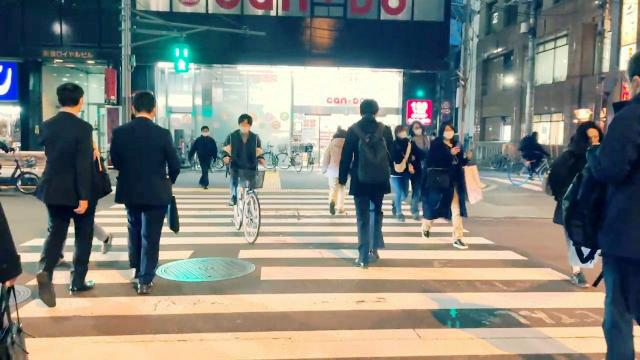berjalan: (570, 48, 640, 360), (24, 80, 104, 308), (106, 87, 184, 291), (337, 97, 397, 265), (421, 118, 477, 248), (225, 105, 269, 246), (190, 117, 222, 195)
